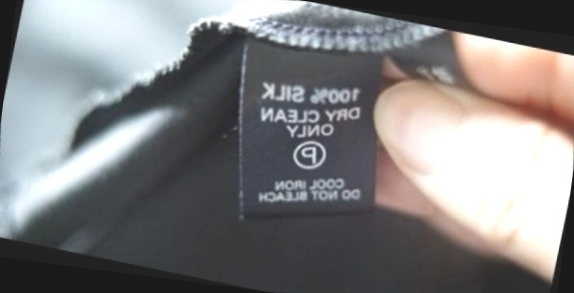dry_clean_any_solvent_except_trichloroethylene: (286, 132, 332, 176)
